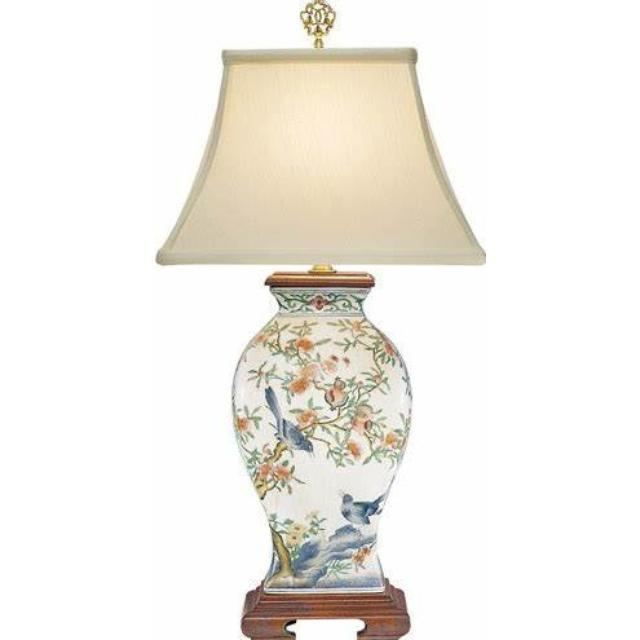lamp: (157, 1, 486, 640)
